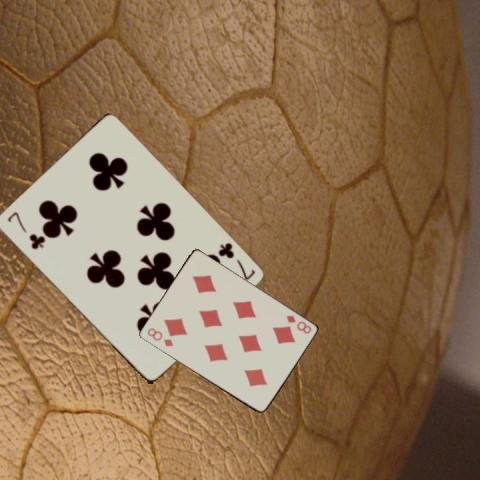7c: (214, 239, 256, 282), (4, 209, 46, 251)
8d: (144, 325, 174, 348), (282, 313, 312, 335)
